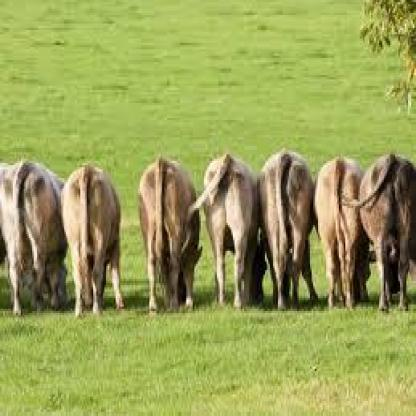cow: (0, 157, 64, 320), (192, 153, 258, 310), (60, 166, 126, 318), (255, 152, 317, 311), (139, 158, 200, 314), (358, 158, 416, 316), (312, 156, 366, 311)
